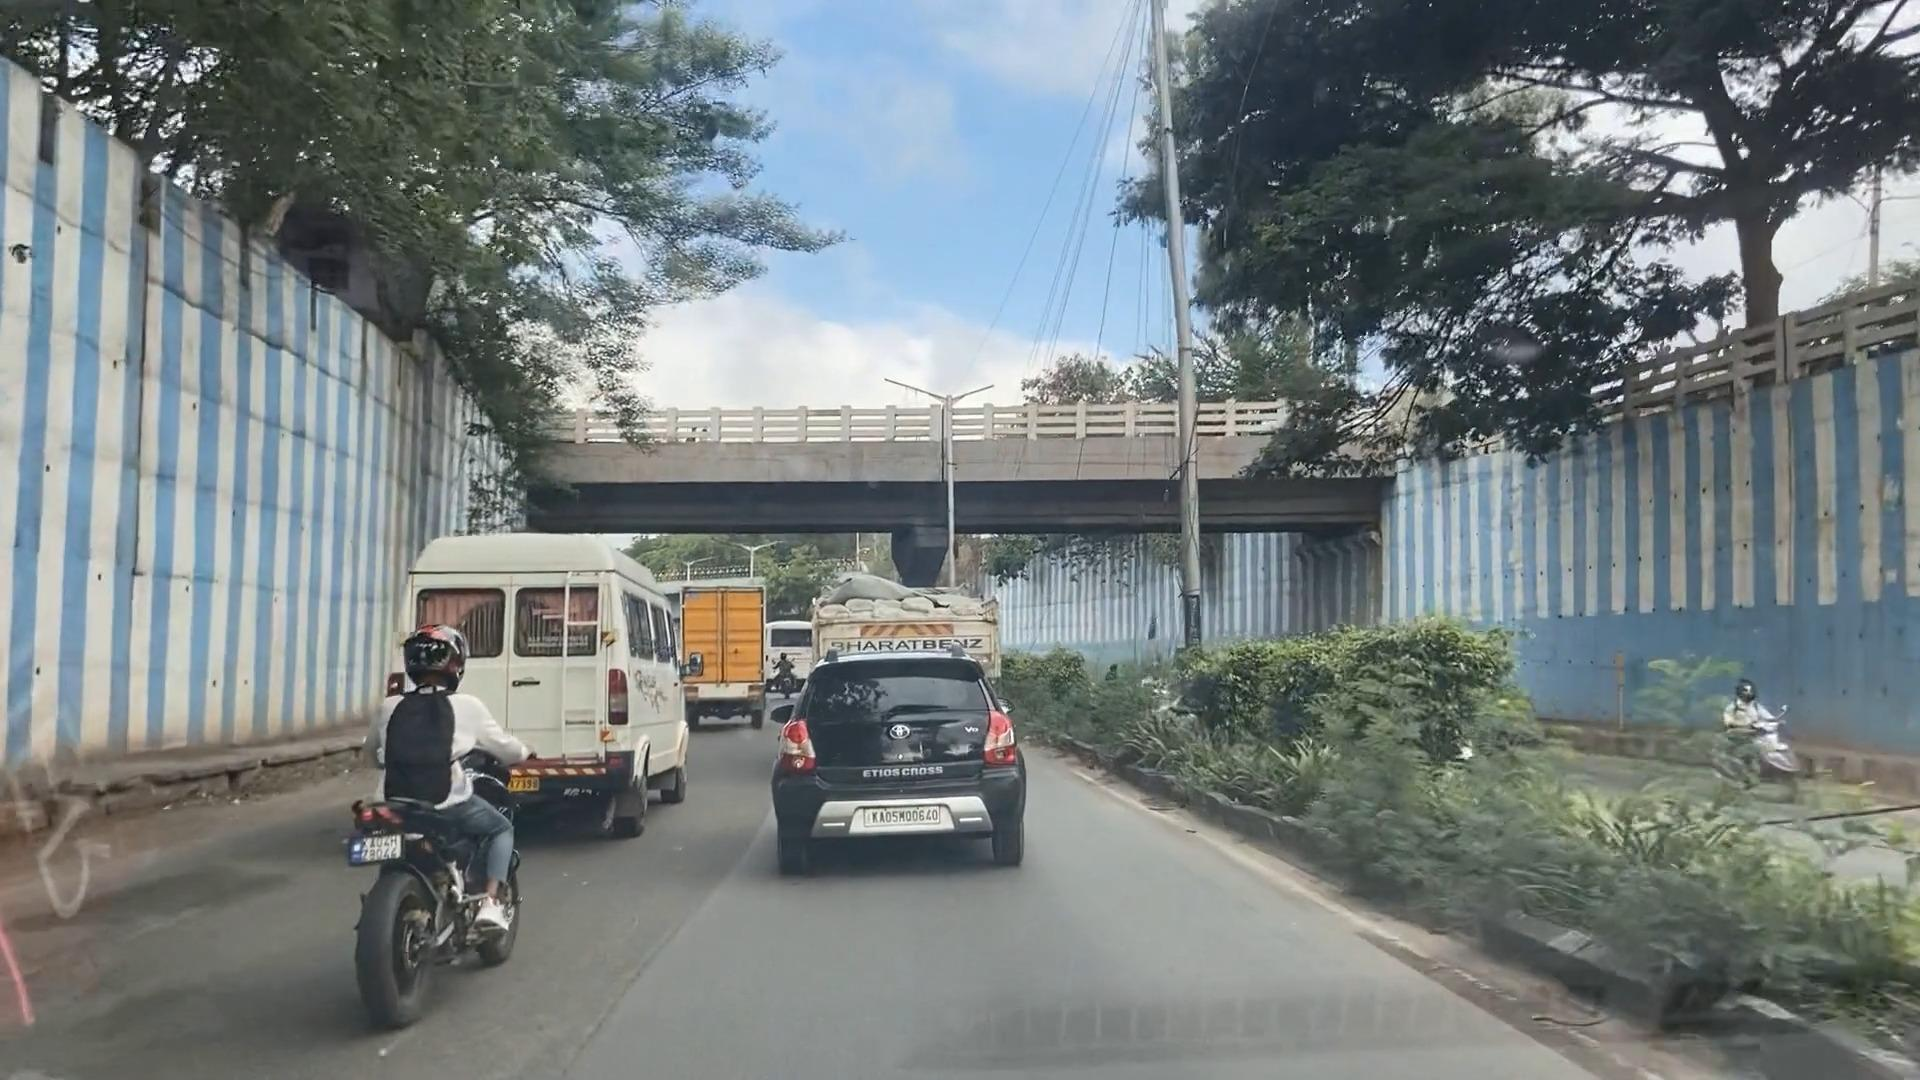HMV: (371, 510, 692, 833), (671, 584, 762, 720)
LMV: (316, 591, 518, 1054), (757, 642, 1009, 862)
